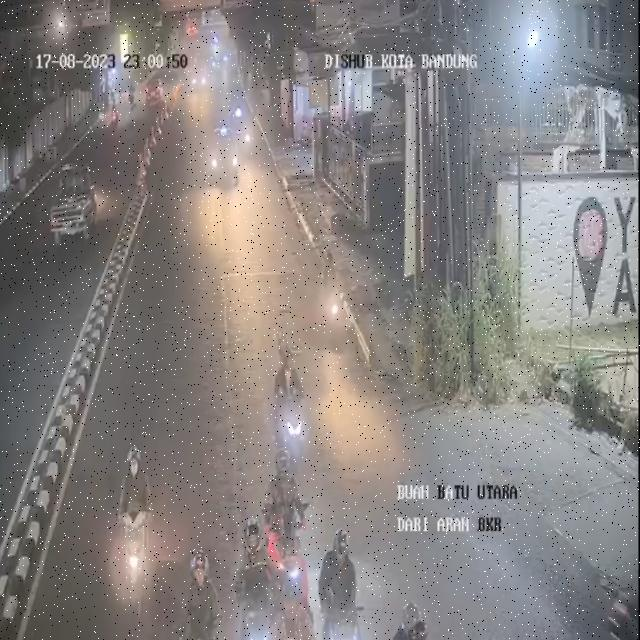cars: (199, 120, 241, 193)
motorcycle: (108, 440, 164, 622), (267, 329, 311, 492), (258, 444, 310, 556), (322, 522, 366, 638), (175, 548, 222, 640), (240, 556, 280, 638), (285, 524, 307, 616), (386, 600, 430, 640), (246, 506, 269, 571), (282, 608, 319, 640)
